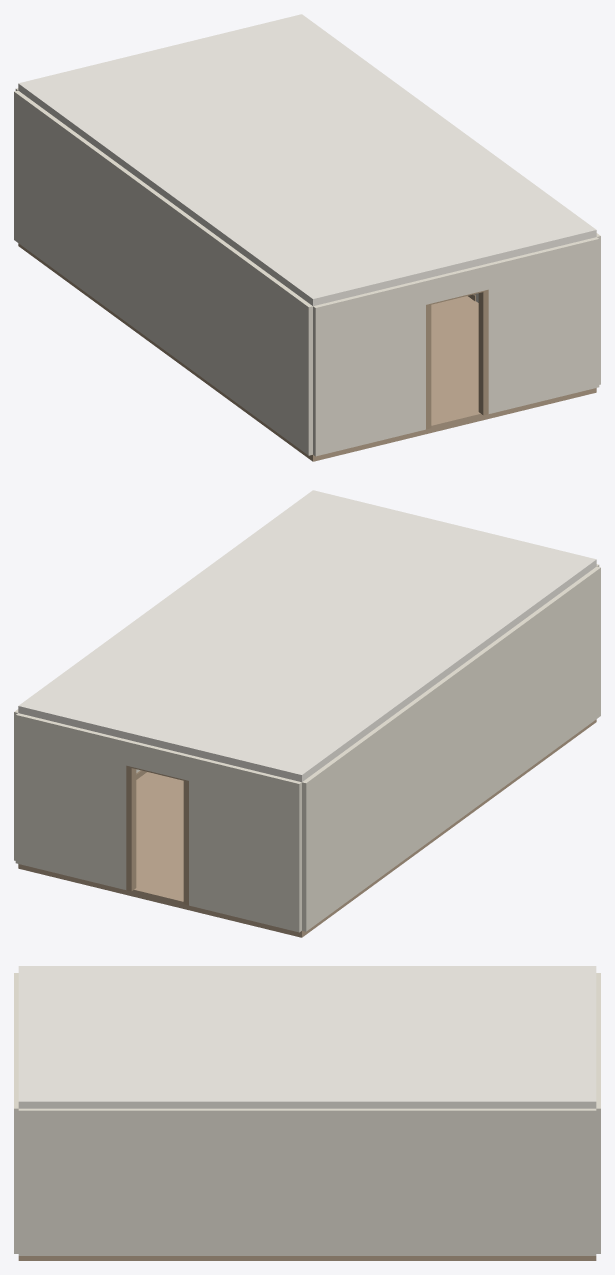
File: Shell_mizuno_apart.fbx
3 renders of one model, top to bottom at view 1: azimuth 30°, elevation 25°; view 2: azimuth 150°, elevation 25°; view 3: azimuth 270°, elevation 25°, orthographic. The views are drawn at different scales.
Parts seen in each view (by area): view 1: Shell_mizuno_apart; view 2: Shell_mizuno_apart; view 3: Shell_mizuno_apart.
Boxes of the visible parts, left/top/right/bottom form: Shell_mizuno_apart: left=14, top=14, right=600, bottom=461; Shell_mizuno_apart: left=14, top=490, right=600, bottom=937; Shell_mizuno_apart: left=14, top=966, right=600, bottom=1260.
Size of the model in its own units: 5.15 by 2.74 by 9.15.
